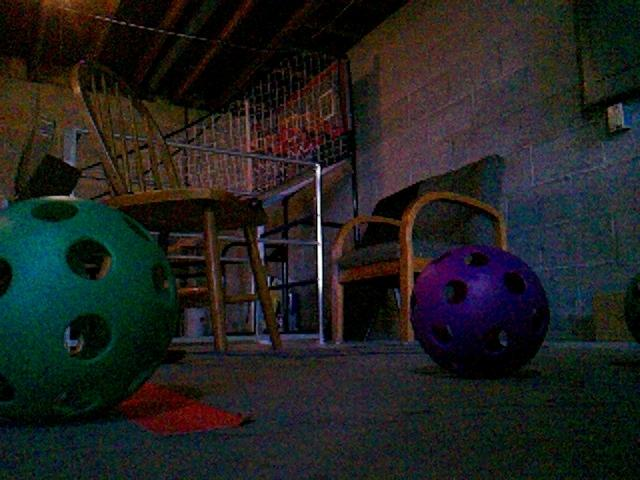Green: (0, 196, 178, 423)
Purple: (408, 244, 551, 378)
